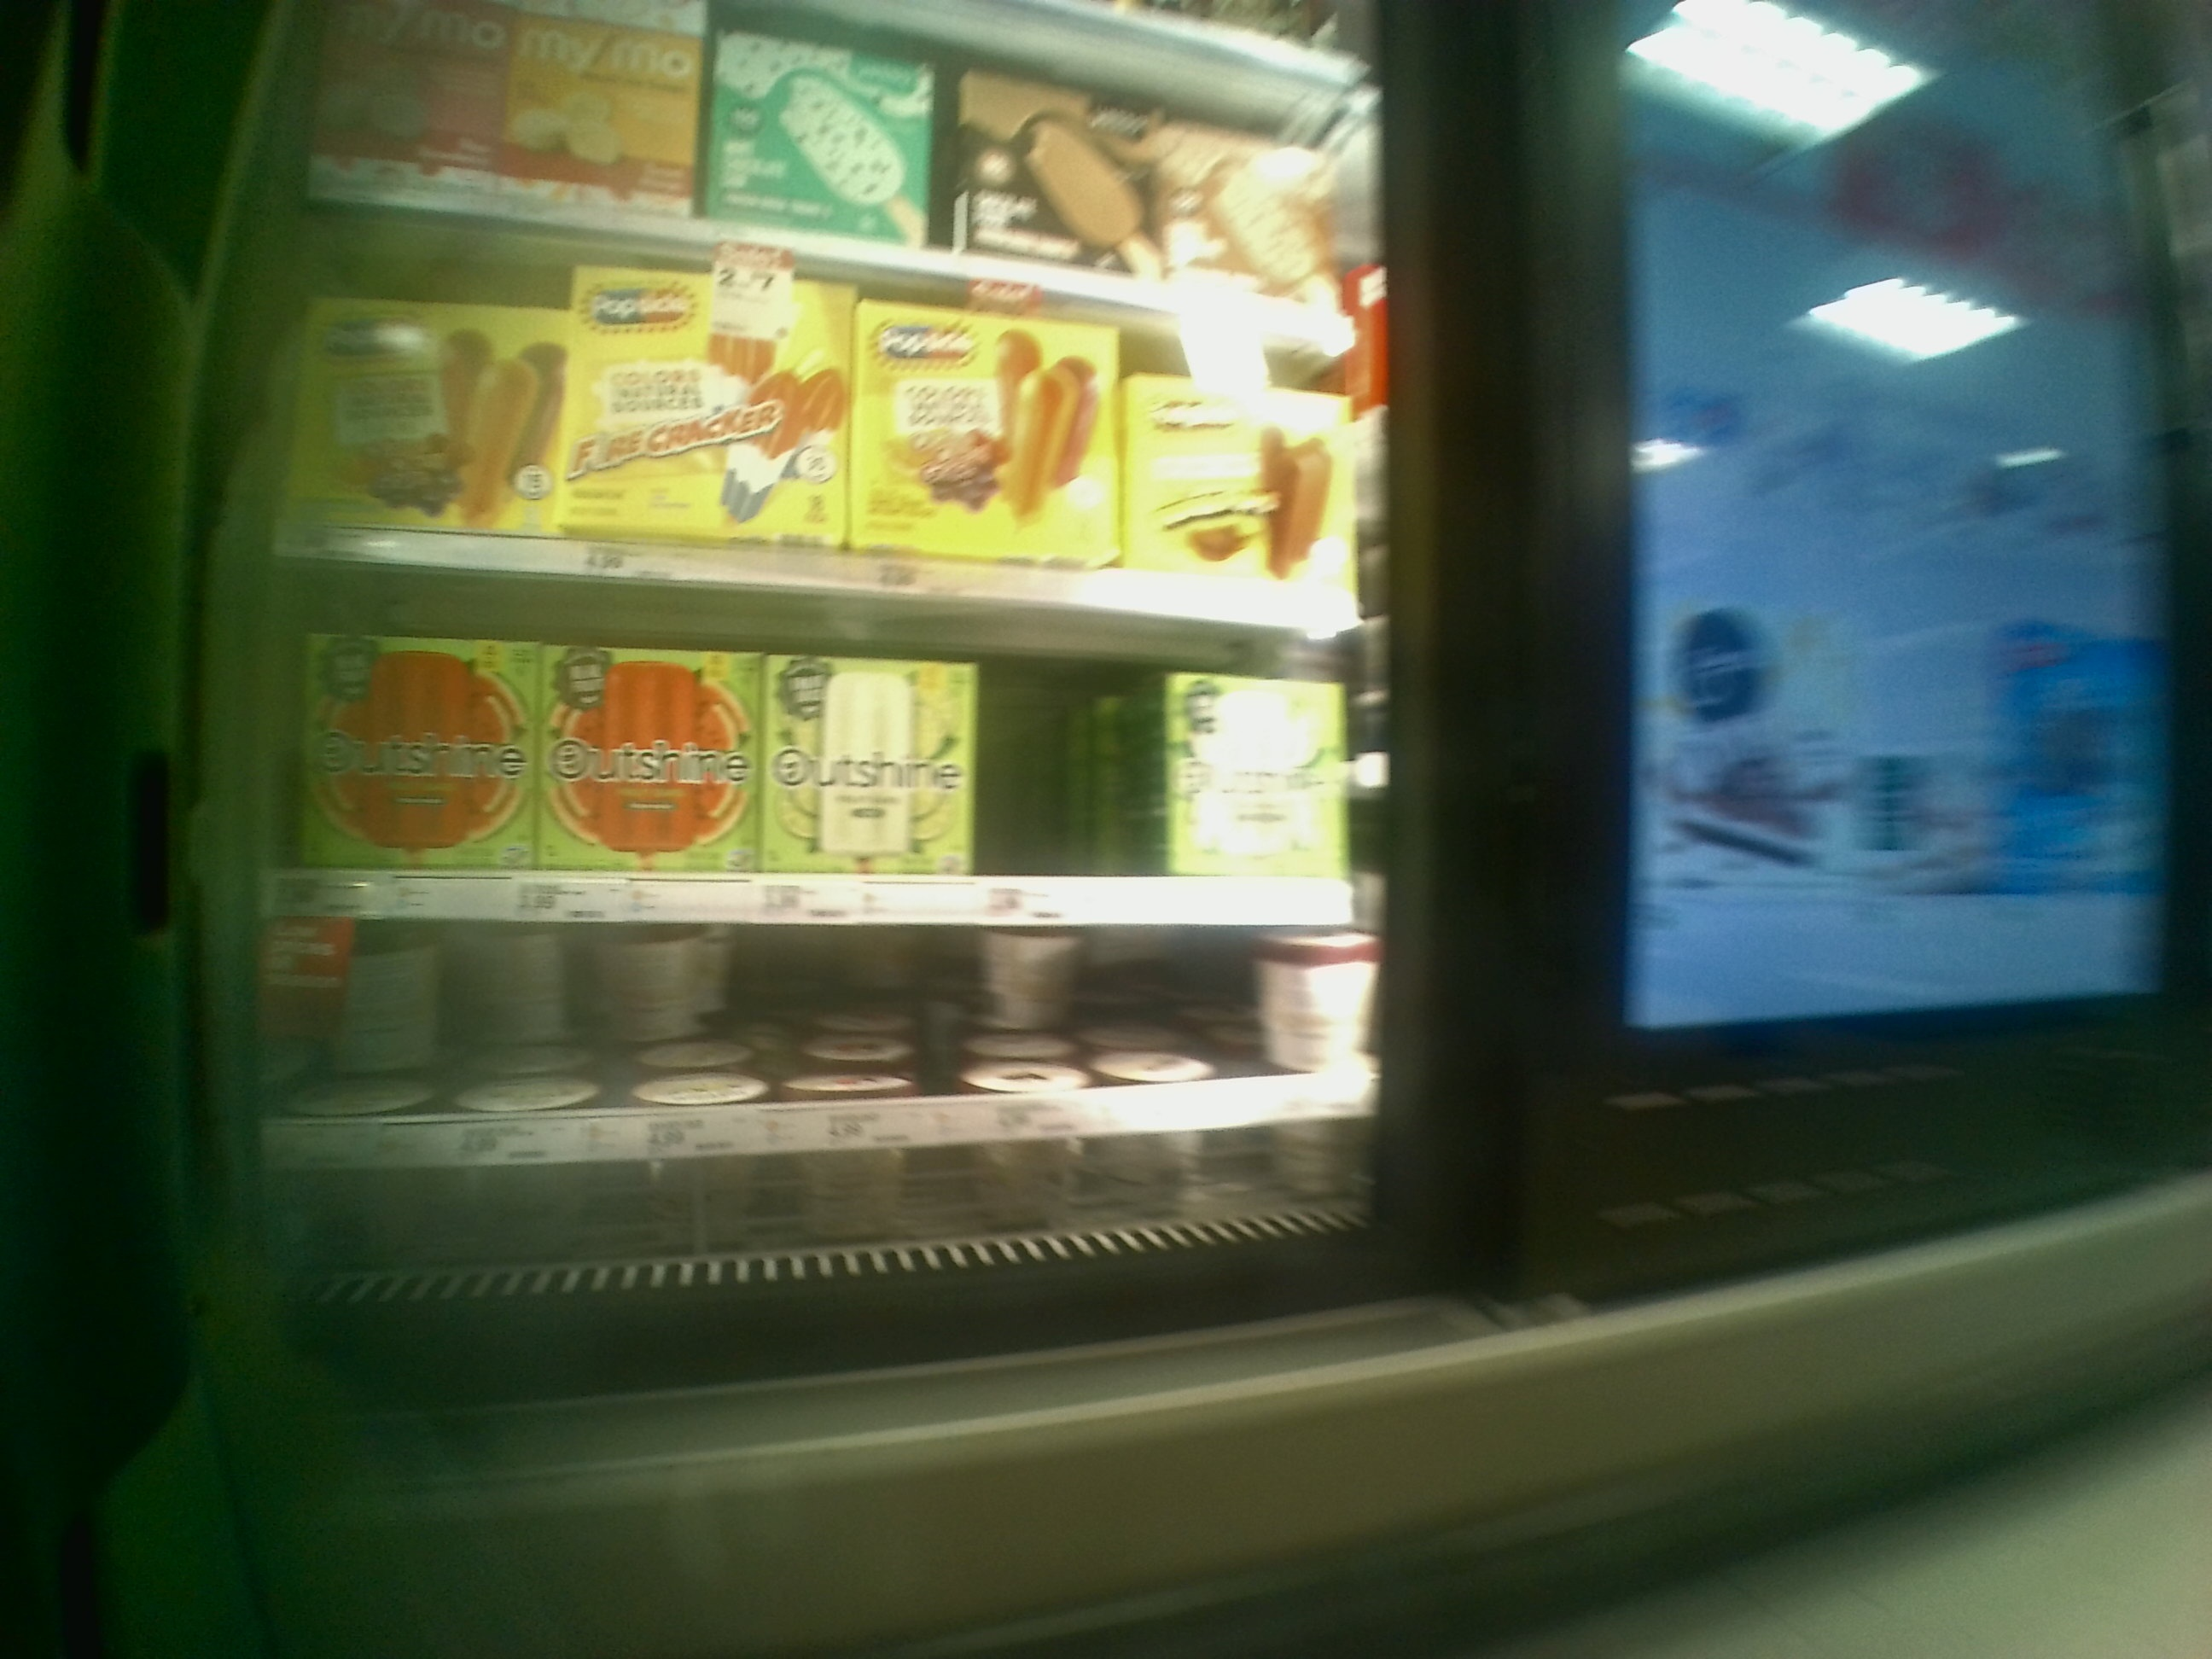ice-cream-shelf: (270, 556, 1371, 924)
